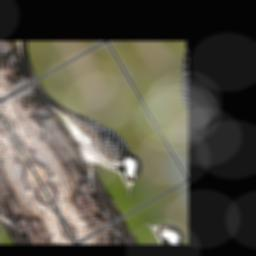Woodpecker: (26, 62, 154, 216)
